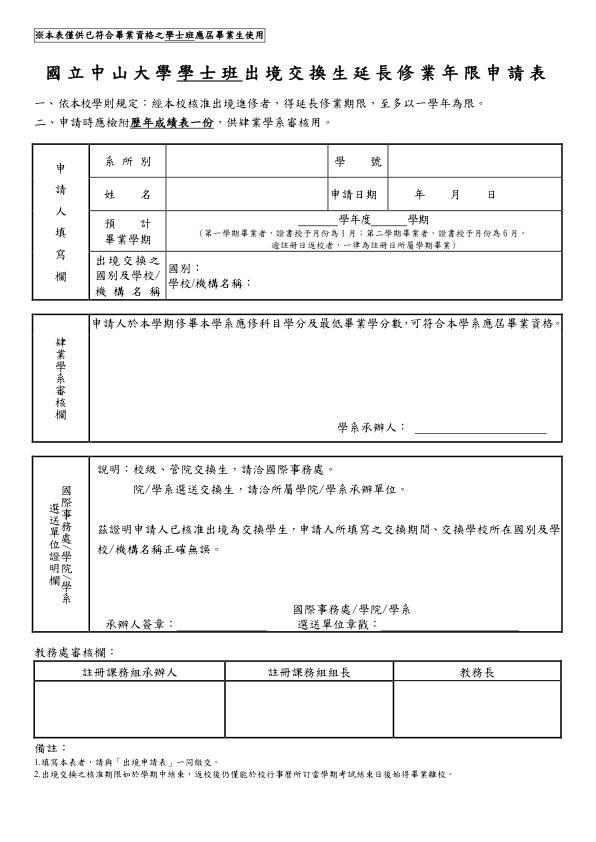table: (27, 453, 568, 636), (28, 140, 567, 308), (28, 309, 570, 446), (30, 657, 564, 743)
text: (30, 94, 486, 131), (39, 56, 551, 87), (30, 757, 458, 784), (32, 27, 268, 44), (30, 643, 116, 659), (34, 741, 68, 754)
